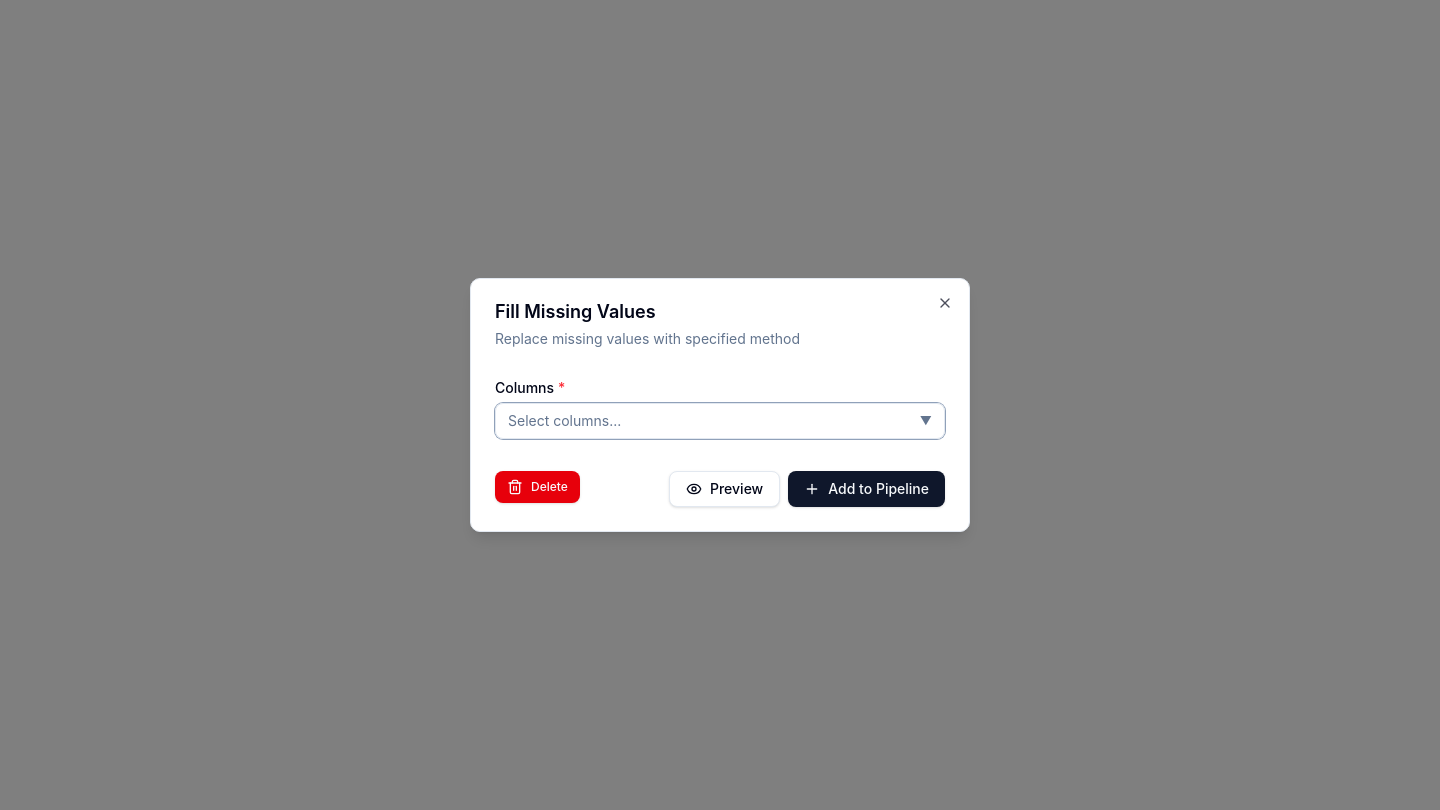
Test: TransformationConfigDialog › Array/Multi-Select Parameters › selects columns in multi-select
The width and height of the screenshot is (1440, 810).
Click the text "Select columns..." at (565,421), box [508, 411, 621, 431]
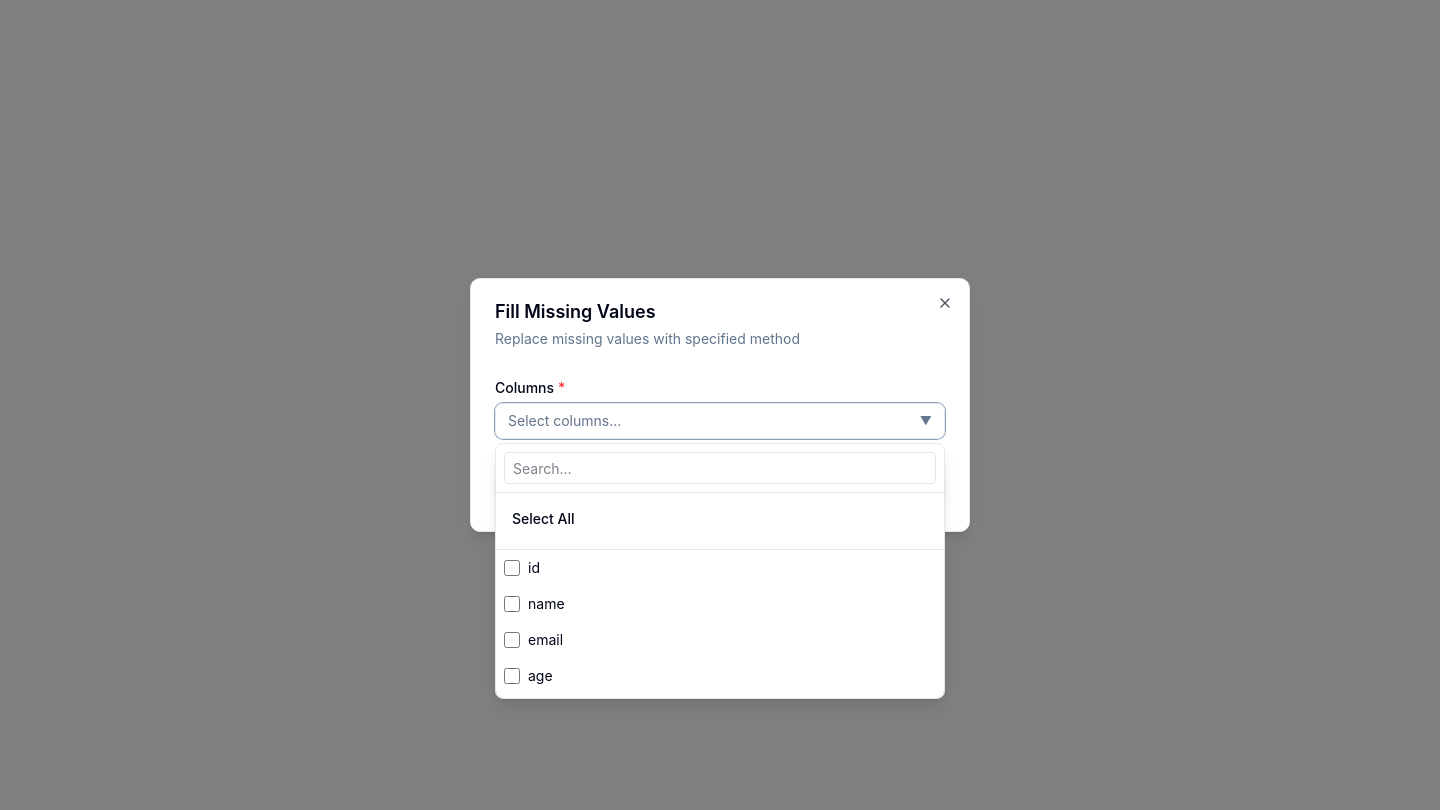
Click the checkbox labelled "name" at (512,604), box [504, 596, 520, 612]
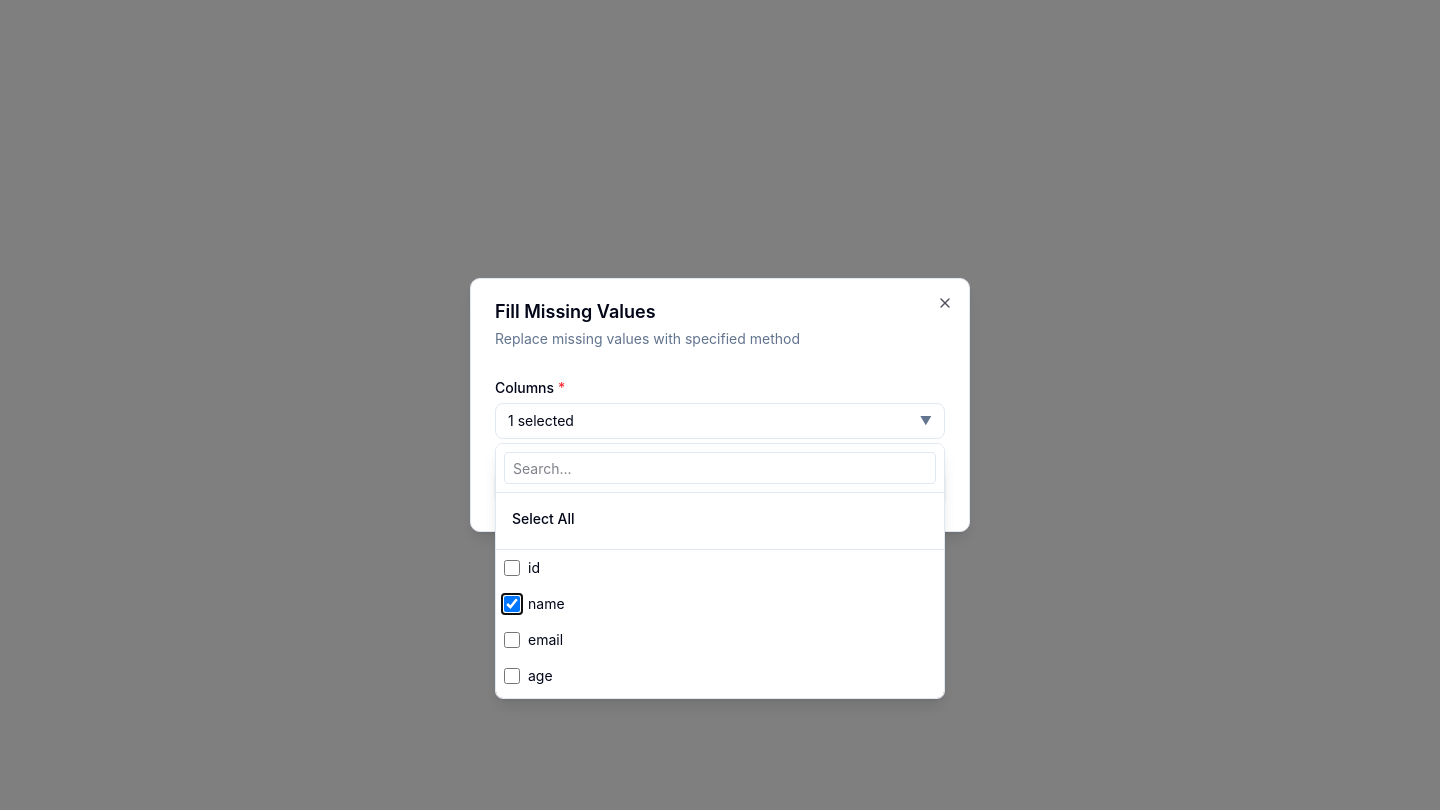
Expected: the checkbox labelled "name" is checked, [504, 596, 520, 612]
Expected: the text "1 selected" is shown, [508, 411, 574, 431]
